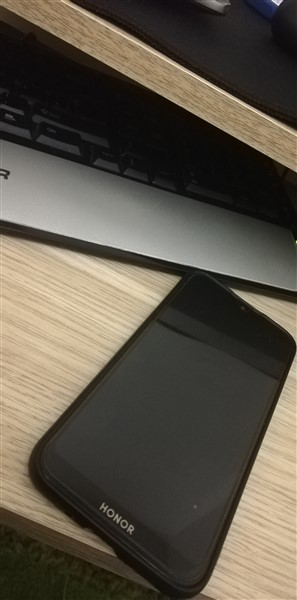telefon: (25, 241, 295, 600)
